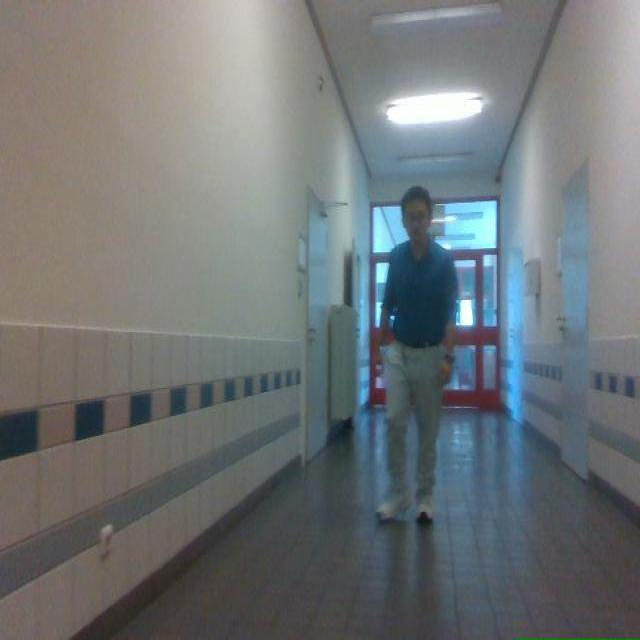humans: (377, 187, 457, 521)
